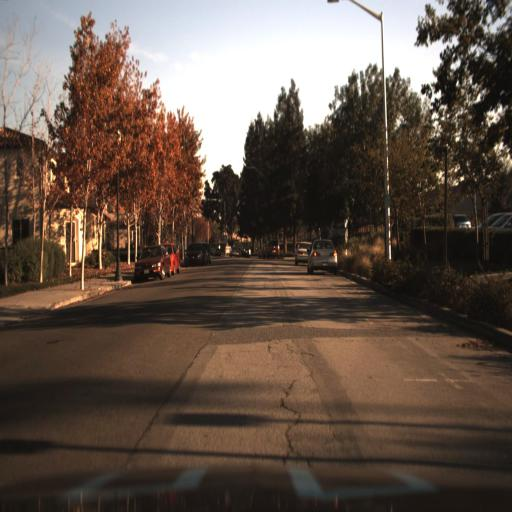car: (135, 240, 170, 281), (307, 236, 337, 277), (165, 238, 183, 278), (180, 242, 205, 270), (451, 207, 470, 234)
